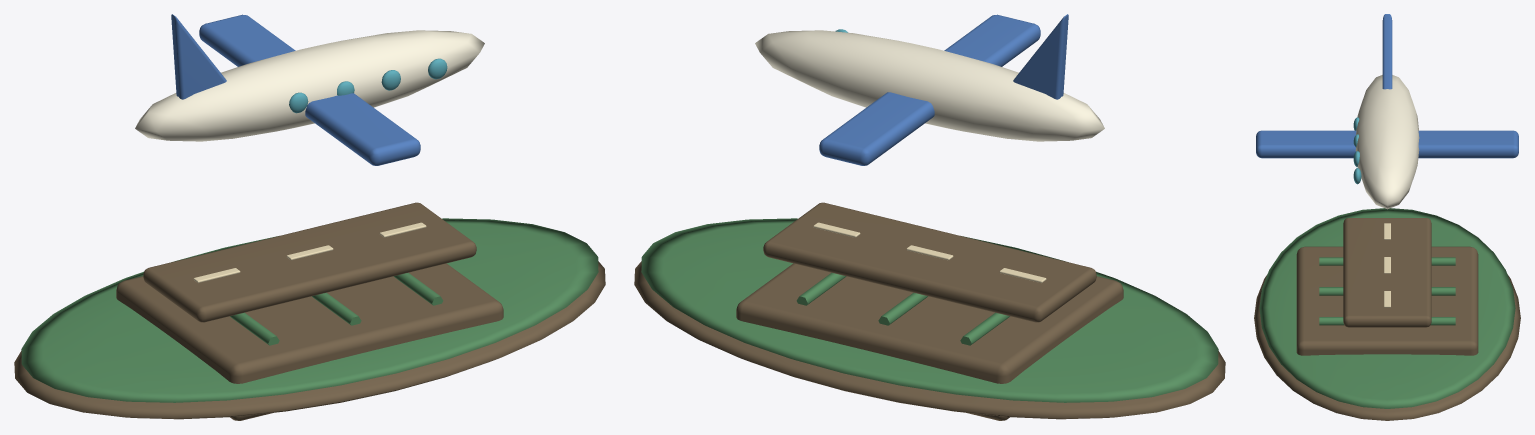
File: plane-field.glb
3 renders of one model, left to right at view 1: azimuth 30°, elevation 25°; view 2: azimuth 150°, elevation 25°; view 3: azimuth 270°, elevation 25°, orthographic. The views are drawn at different scales.
Parts seen in each view (by area): view 1: plane-field_surface_00, plane-field_surface_01, plane-field_surface_02, plane-field_surface_03, plane-field_surface_04, plane-field_surface_05; view 2: plane-field_surface_00, plane-field_surface_01, plane-field_surface_02, plane-field_surface_03, plane-field_surface_05; view 3: plane-field_surface_00, plane-field_surface_01, plane-field_surface_02, plane-field_surface_03, plane-field_surface_05, plane-field_surface_04.
Part boxes in pixels (x1,y1,x2,y2): plane-field_surface_00: (14, 202, 605, 420); plane-field_surface_01: (21, 218, 598, 402); plane-field_surface_02: (135, 30, 484, 141); plane-field_surface_03: (171, 14, 420, 165); plane-field_surface_04: (289, 58, 447, 113); plane-field_surface_05: (193, 222, 426, 282); plane-field_surface_00: (634, 202, 1225, 420); plane-field_surface_01: (641, 218, 1218, 402); plane-field_surface_02: (755, 30, 1104, 141); plane-field_surface_03: (819, 14, 1068, 165); plane-field_surface_05: (813, 222, 1046, 282); plane-field_surface_00: (1254, 218, 1520, 420); plane-field_surface_01: (1259, 208, 1515, 408); plane-field_surface_02: (1355, 75, 1419, 209); plane-field_surface_03: (1256, 14, 1518, 158); plane-field_surface_05: (1384, 223, 1390, 307); plane-field_surface_04: (1353, 117, 1361, 184).
Bounding box in the file's own units: 4.56 × 2.82 × 2.5.
